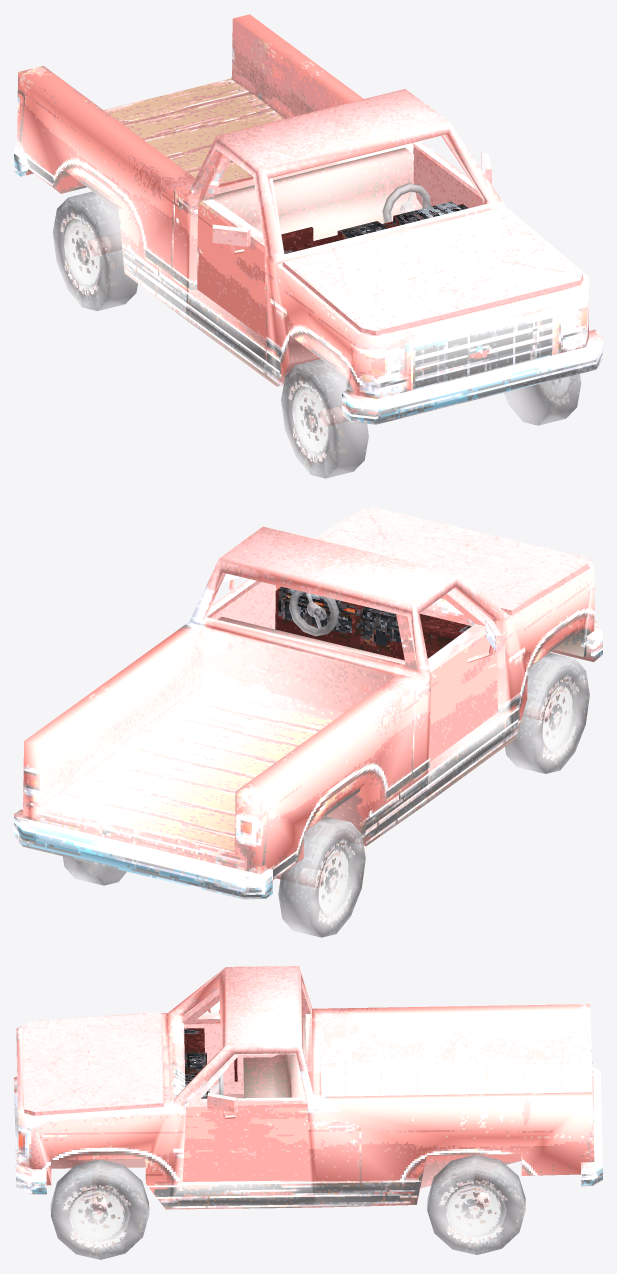
The model's file is car_ford_1980.glb.
3 renders of one model, top to bottom at view 1: azimuth 30°, elevation 25°; view 2: azimuth 150°, elevation 25°; view 3: azimuth 270°, elevation 25°, orthographic. The views are drawn at different scales.
Parts seen in each view (by area): view 1: Ford_1980, Hood.002, Door_Right.002, Wheel_Rigth_1.002, Wheel_Rigth_2.002, Door_Left.002, Wheel_Left_1.002, Steering_Wheel.002; view 2: Ford_1980, Hood.002, Door_Right.002, Wheel_Rigth_2.002, Wheel_Rigth_1.002, Door_Left.002, Steering_Wheel.002, Wheel_Left_2.002; view 3: Ford_1980, Hood.002, Door_Left.002, Wheel_Left_1.002, Wheel_Left_2.002, Door_Right.002.
Boxes of the visible parts, left/top/right/bottom form: Ford_1980: left=14, top=14, right=602, bottom=426; Hood.002: left=282, top=206, right=582, bottom=335; Door_Right.002: left=197, top=151, right=283, bottom=339; Wheel_Rigth_1.002: left=281, top=359, right=368, bottom=478; Wheel_Rigth_2.002: left=52, top=191, right=137, bottom=311; Door_Left.002: left=412, top=135, right=491, bottom=208; Wheel_Left_1.002: left=504, top=374, right=581, bottom=425; Steering_Wheel.002: left=382, top=183, right=430, bottom=223; Ford_1980: left=14, top=526, right=602, bottom=899; Hood.002: left=313, top=507, right=588, bottom=614; Door_Right.002: left=396, top=589, right=502, bottom=761; Wheel_Rigth_2.002: left=278, top=816, right=365, bottom=937; Wheel_Rigth_1.002: left=505, top=652, right=589, bottom=773; Door_Left.002: left=207, top=565, right=276, bottom=629; Steering_Wheel.002: left=289, top=590, right=339, bottom=636; Wheel_Left_2.002: left=63, top=856, right=126, bottom=885; Ford_1980: left=14, top=966, right=602, bottom=1213; Hood.002: left=22, top=1012, right=163, bottom=1115; Door_Left.002: left=182, top=1053, right=309, bottom=1181; Wheel_Left_1.002: left=50, top=1159, right=149, bottom=1259; Wheel_Left_2.002: left=427, top=1155, right=525, bottom=1254; Door_Right.002: left=182, top=981, right=310, bottom=1094.
Size of the model in its own units: 6.8 by 5.7 by 14.81.
2 materials, 2 textured.
